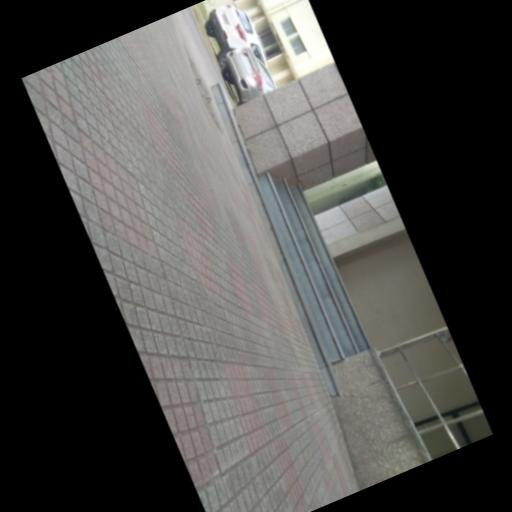stairs: (232, 140, 368, 395)
